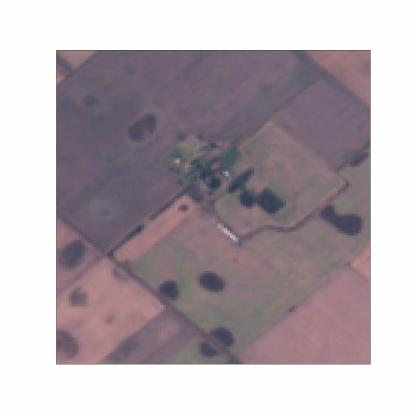silobolsa: (212, 220, 242, 245)
